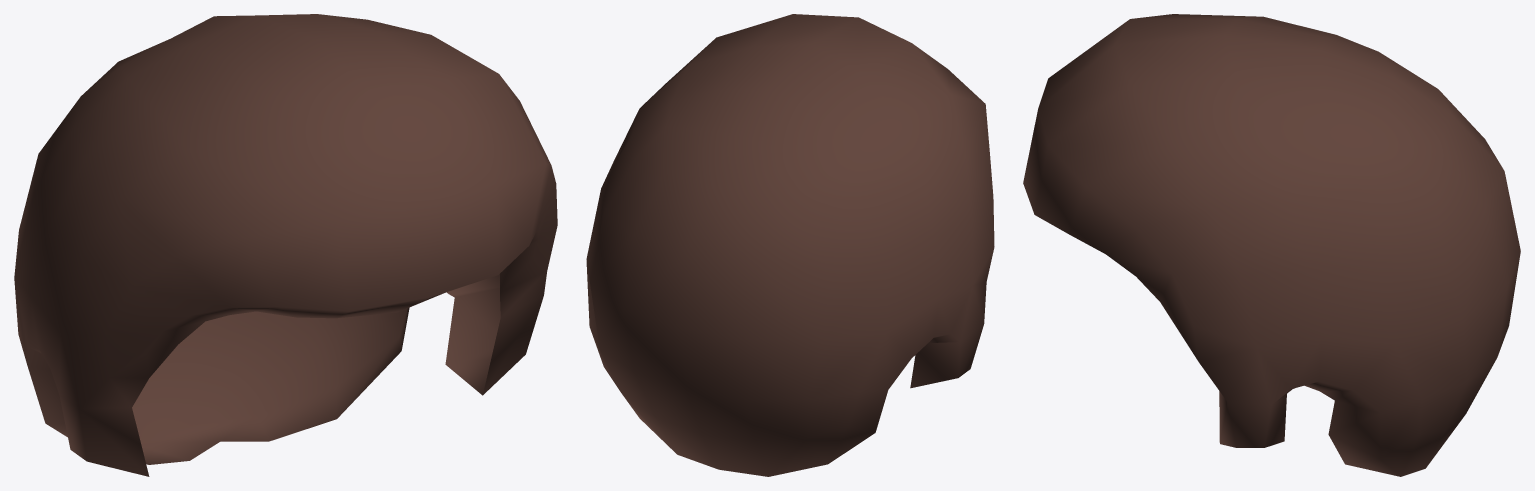
Rendered from Hair_027.glb.
3 renders of one model, left to right at view 1: azimuth 30°, elevation 25°; view 2: azimuth 150°, elevation 25°; view 3: azimuth 270°, elevation 25°, orthographic. The views are drawn at different scales.
Visible parts, largest first — view 1: Hair_027; view 2: Hair_027; view 3: Hair_027.
Boxes of the visible parts, box(x1,y1,x2,y2) form: Hair_027: box(14, 14, 557, 476); Hair_027: box(586, 14, 994, 476); Hair_027: box(1023, 14, 1520, 476).
Size of the model in its own units: 0.4447 by 0.4322 by 0.4773.
1 material, 1 textured.
